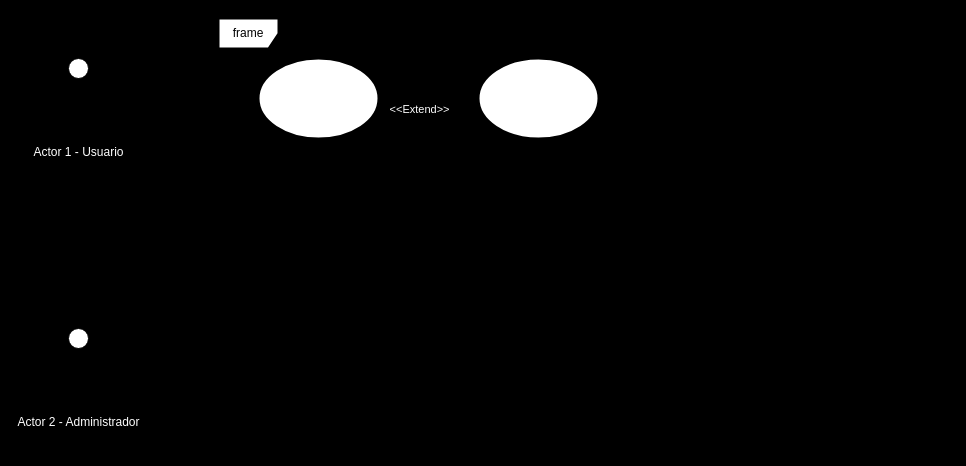
The diagram is 966 pixels wide and 466 high, and some of its shapes have lost their labels. Here are the shapes that lost their labels. From the top down, the box of each, then its label:
(257, 57, 379, 139): CU1 - Desplegar lista de instalaciones
(477, 57, 599, 139): CU2 - Realizar reserva de instalación
